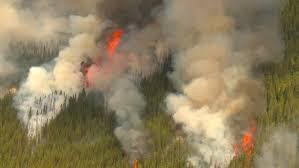fire: (83, 26, 123, 90), (233, 122, 257, 160)
yanwu: (9, 0, 289, 136)
